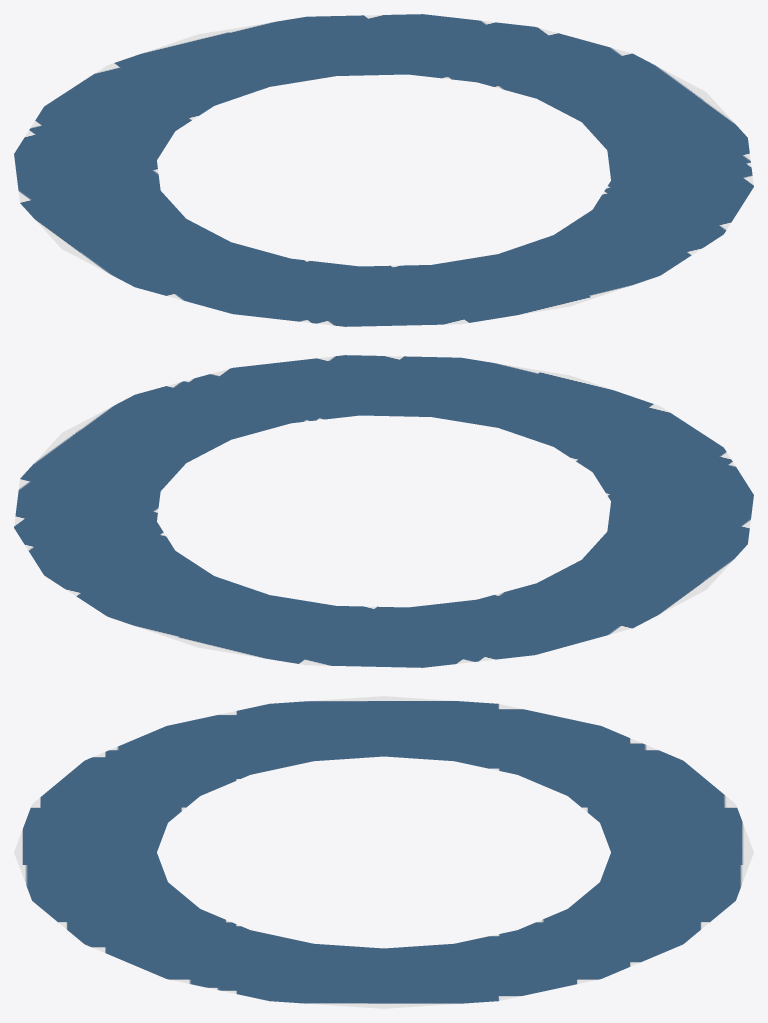
The model's file is planet_ring.fbx.
The picture shows the model from 3 angles, top to bottom: view 1: azimuth 30°, elevation 25°; view 2: azimuth 150°, elevation 25°; view 3: azimuth 270°, elevation 25°; orthographic projection.
Parts seen in each view (by area): view 1: Space-Games Rings; view 2: Space-Games Rings; view 3: Space-Games Rings.
Boxes of the visible parts, x1,y1,x2,y2 form: Space-Games Rings: [14, 14, 753, 326]; Space-Games Rings: [14, 355, 753, 667]; Space-Games Rings: [14, 696, 753, 1008].
Size of the model in its own units: 7321 by 0.00032 by 7321.
